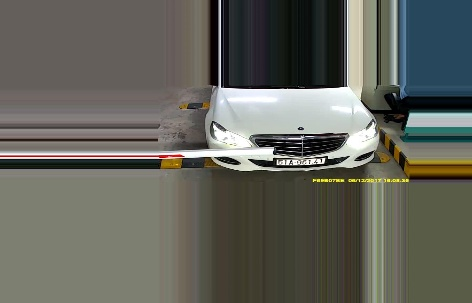plate: (272, 155, 326, 166)
